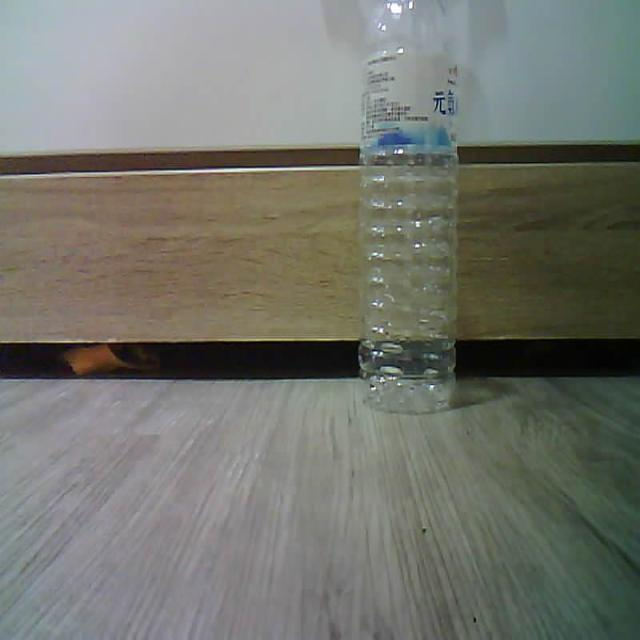bottle: (358, 0, 466, 411)
